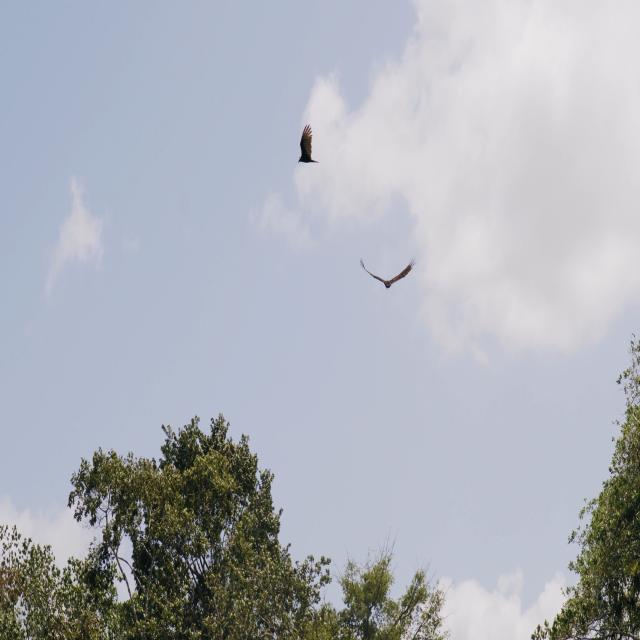bird: (358, 254, 418, 292), (297, 122, 319, 166)
